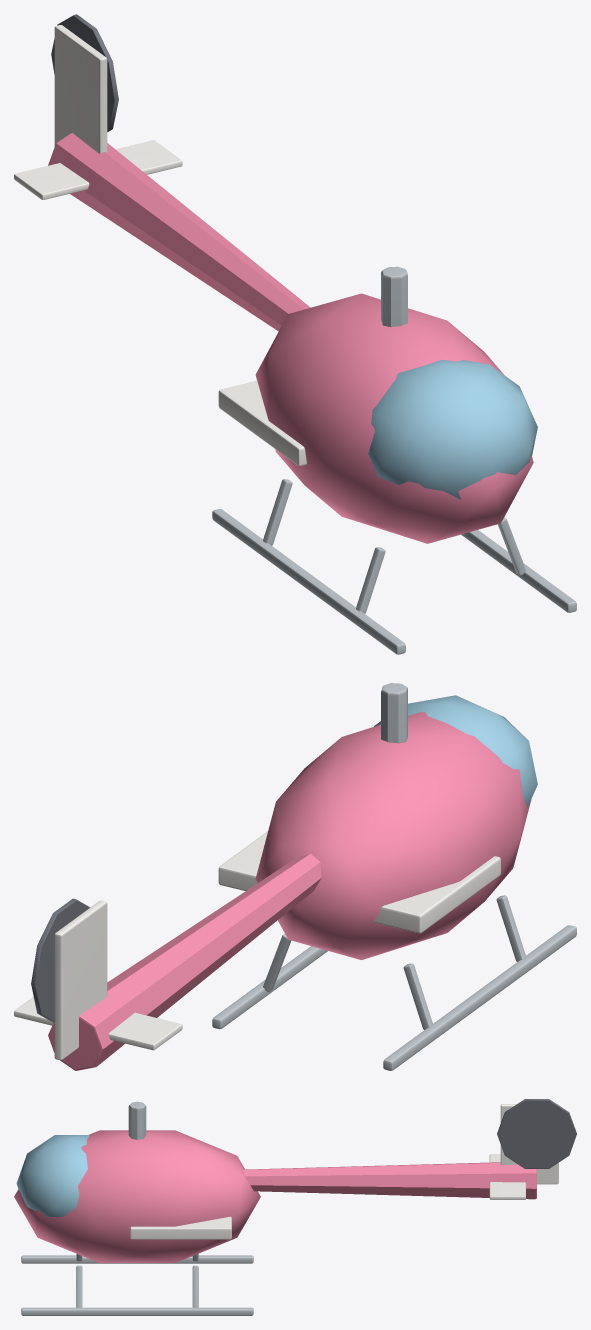
Rendered from Helicopter.fbx.
3 views of the same model, one above another, from view 1: azimuth 30°, elevation 25°; view 2: azimuth 150°, elevation 25°; view 3: azimuth 270°, elevation 25° (orthographic). The views are drawn at different scales.
Visible parts, largest first — view 1: Helicopter; view 2: Helicopter; view 3: Helicopter.
Part boxes in pixels (x1,y1,x2,y2): Helicopter: (14,14,576,654); Helicopter: (14,683,576,1070); Helicopter: (14,1099,576,1315).
Bounding box in the file's own units: 2.02 × 2.92 × 7.75.
